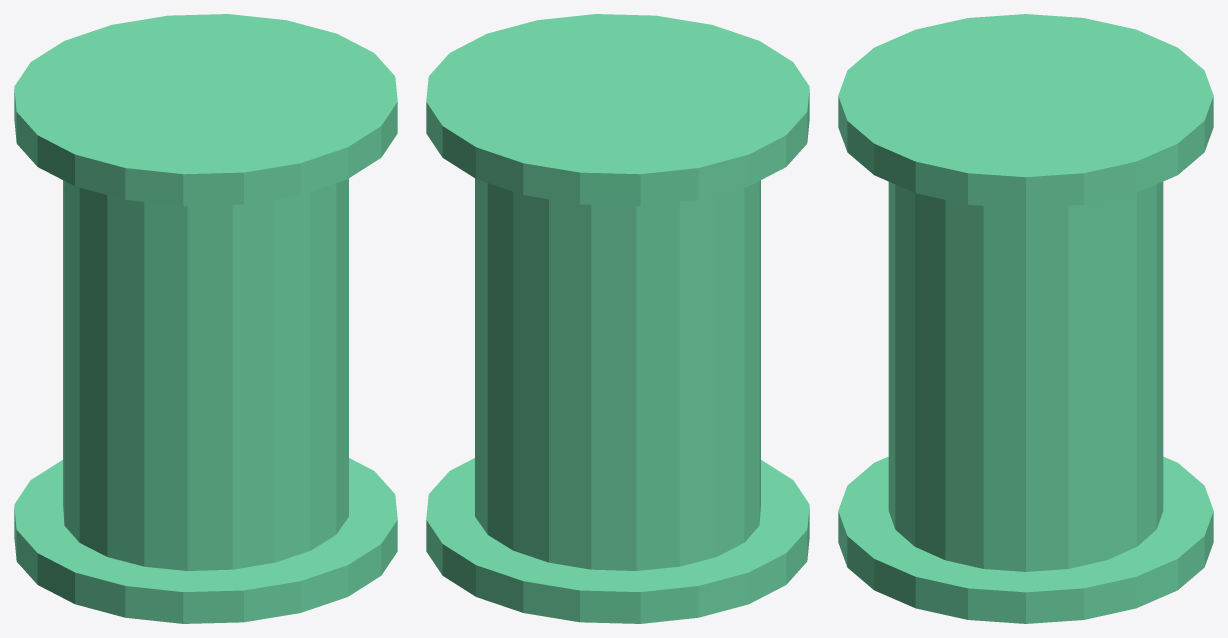
File: can_green.gltf
The picture shows the model from 3 angles, left to right: view 1: azimuth 30°, elevation 25°; view 2: azimuth 150°, elevation 25°; view 3: azimuth 270°, elevation 25°; orthographic projection.
Visible parts, largest first — view 1: Цилиндр (×3); view 2: Цилиндр (×3); view 3: Цилиндр (×3).
Part boxes in pixels (x1,y1,x2,y2): Цилиндр (×3): (14, 14, 397, 623); Цилиндр (×3): (426, 14, 809, 623); Цилиндр (×3): (838, 14, 1213, 623).
Size of the model in its own units: 1.97 by 2.51 by 1.91.
